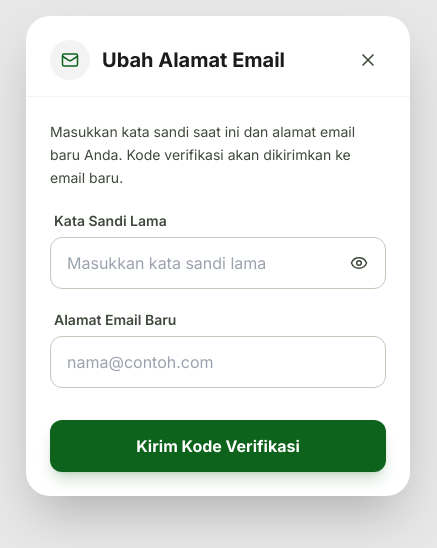
Scenario: TASK-0216 EmailChangeModal UI Test Suite › advances to Step 2 upon successful request and displays 60s cooldown timer
Type "Secret123!" into the password field with placeholder "Masukkan kata sandi lama".
click(218, 263); type("Secret123!")  # box top-left (50, 237), bottom-right (386, 289)
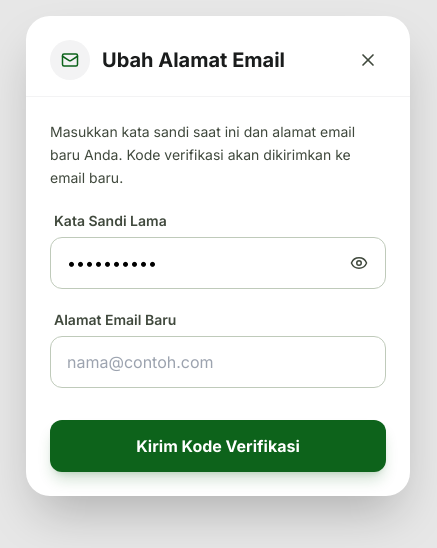
Type "candidate.new@example.com" into the field with placeholder "nama@contoh.com".
click(218, 362); type("candidate.new@example.com")  # box top-left (50, 336), bottom-right (386, 388)
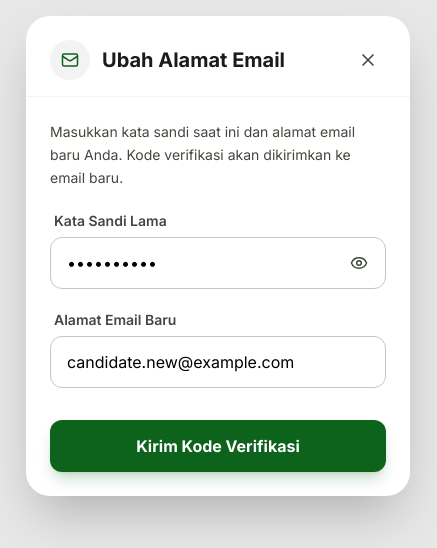
Click the button "Kirim Kode Verifikasi".
click(218, 446)  # box top-left (50, 420), bottom-right (386, 472)
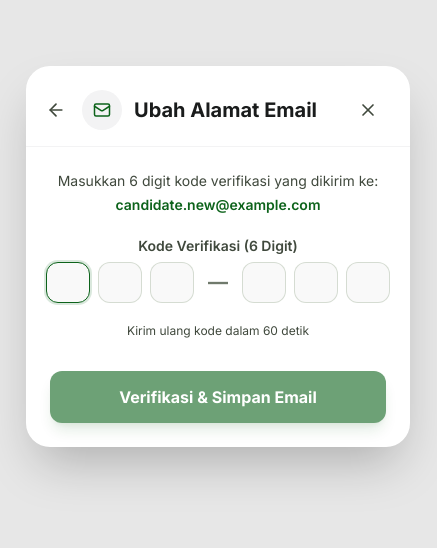
Now the text "candidate.new@example.com" is shown, box top-left (116, 196), bottom-right (320, 212)
Now the text "Kode Verifikasi (6 Digit)" is shown, box top-left (138, 236), bottom-right (298, 254)
Now the element with test id "otp-code-input" is shown, box top-left (50, 262), bottom-right (386, 302)
